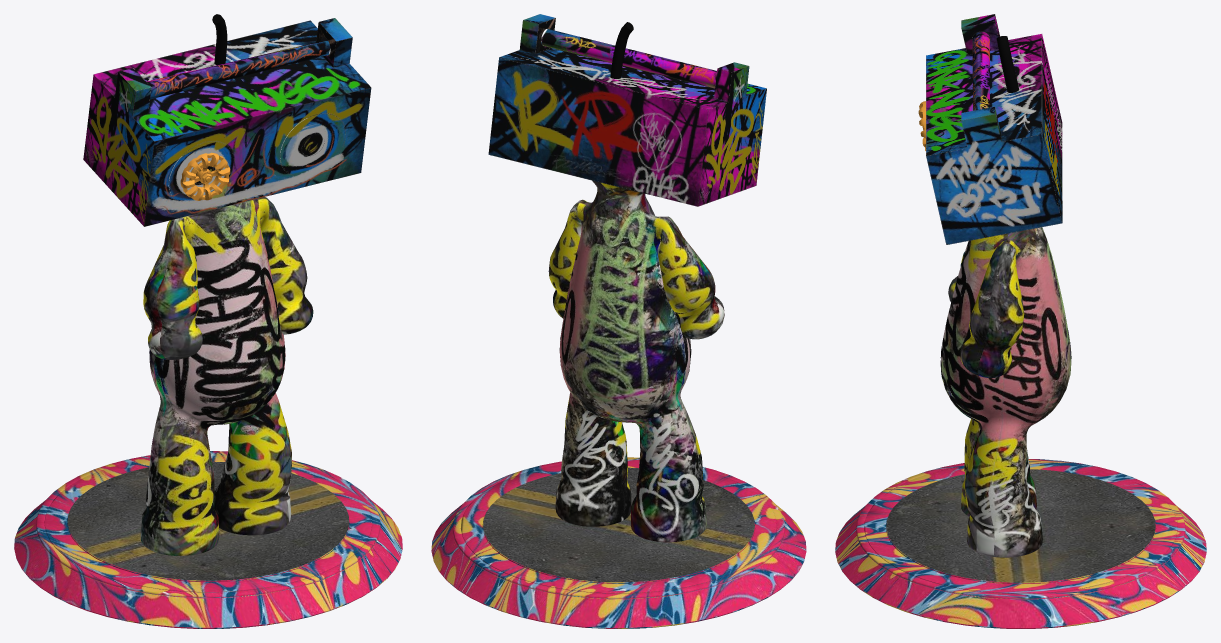
The picture shows the model from 3 angles, left to right: view 1: azimuth 30°, elevation 25°; view 2: azimuth 150°, elevation 25°; view 3: azimuth 270°, elevation 25°; orthographic projection. The views are drawn at different scales.
Bounding box in the file's own units: 1.45 × 2.21 × 1.45.
Materials: 6 (5 with a texture image).
